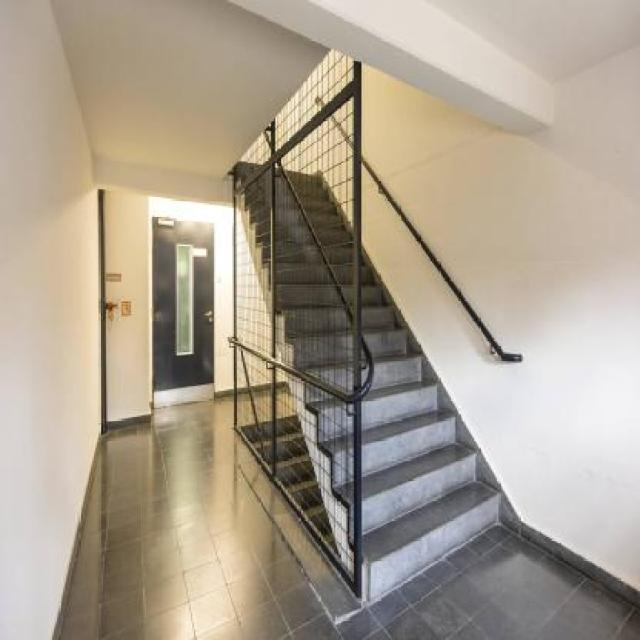stair: (221, 26, 510, 599)
